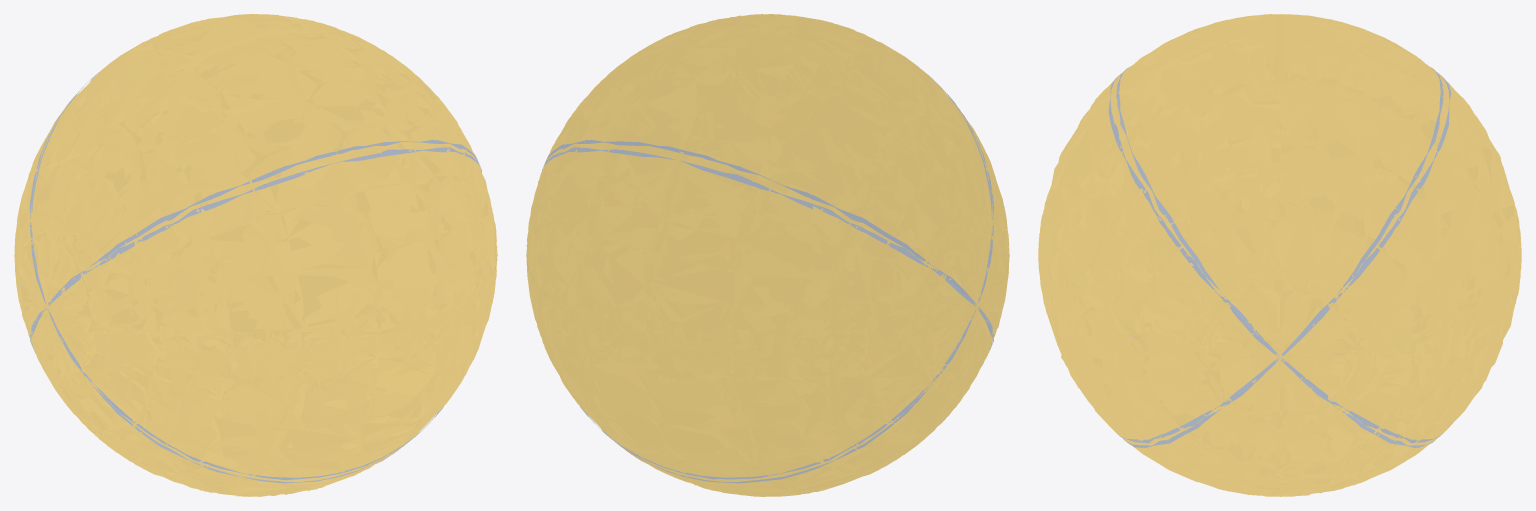
File: dg-inner-C.glb
3 renders of one model, left to right at view 1: azimuth 30°, elevation 25°; view 2: azimuth 150°, elevation 25°; view 3: azimuth 270°, elevation 25°, orthographic.
Parts seen in each view (by area): view 1: anodes, structure; view 2: anodes, structure; view 3: anodes, structure.
Boxes of the visible parts, x1,y1,x2,y2 form: anodes: [14, 14, 497, 496]; structure: [21, 67, 497, 483]; anodes: [526, 14, 1009, 496]; structure: [526, 69, 1009, 483]; anodes: [1038, 14, 1521, 496]; structure: [1088, 67, 1471, 447].
Size of the model in its own units: 2 by 2 by 2.
